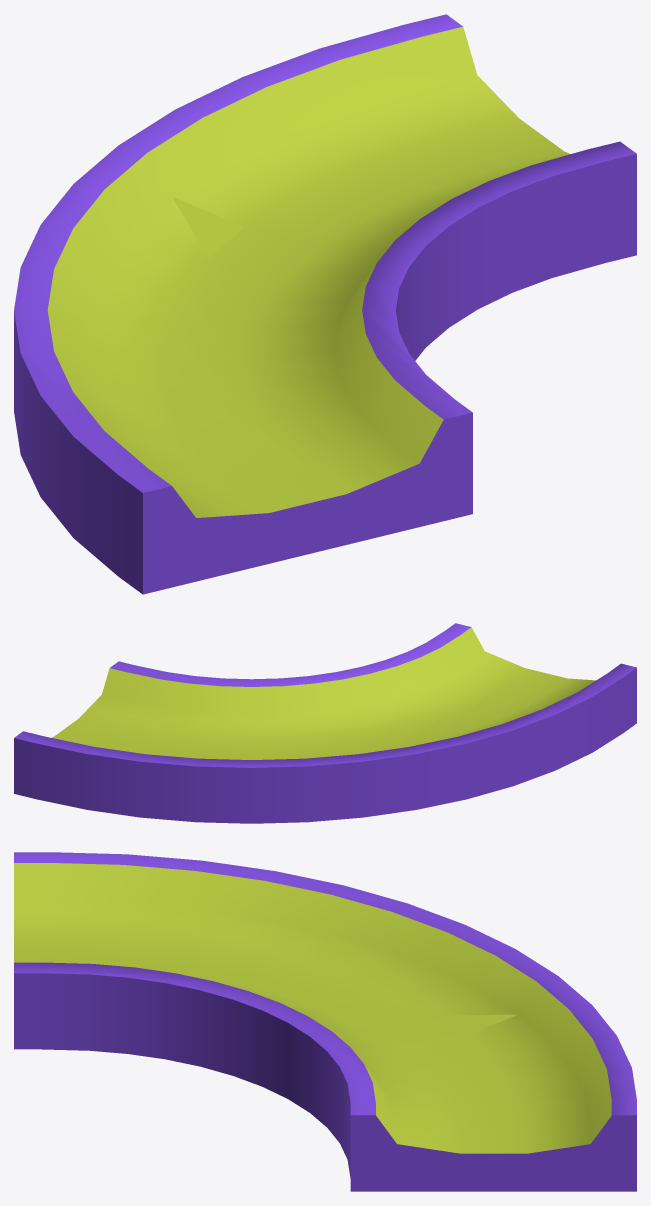
Rendered from curve_wide_large-col.dae.
3 views of the same model, one above another, from view 1: azimuth 30°, elevation 25°; view 2: azimuth 150°, elevation 25°; view 3: azimuth 270°, elevation 25° (orthographic). The views are drawn at different scales.
Parts seen in each view (by area): view 1: curve_wide_large-col; view 2: curve_wide_large-col; view 3: curve_wide_large-col.
Part boxes in pixels (bbox=[...]): curve_wide_large-col: bbox=[14, 14, 636, 594]; curve_wide_large-col: bbox=[14, 623, 636, 823]; curve_wide_large-col: bbox=[14, 852, 636, 1191].
Size of the model in its own units: 3.7 by 3.7 by 0.5.
